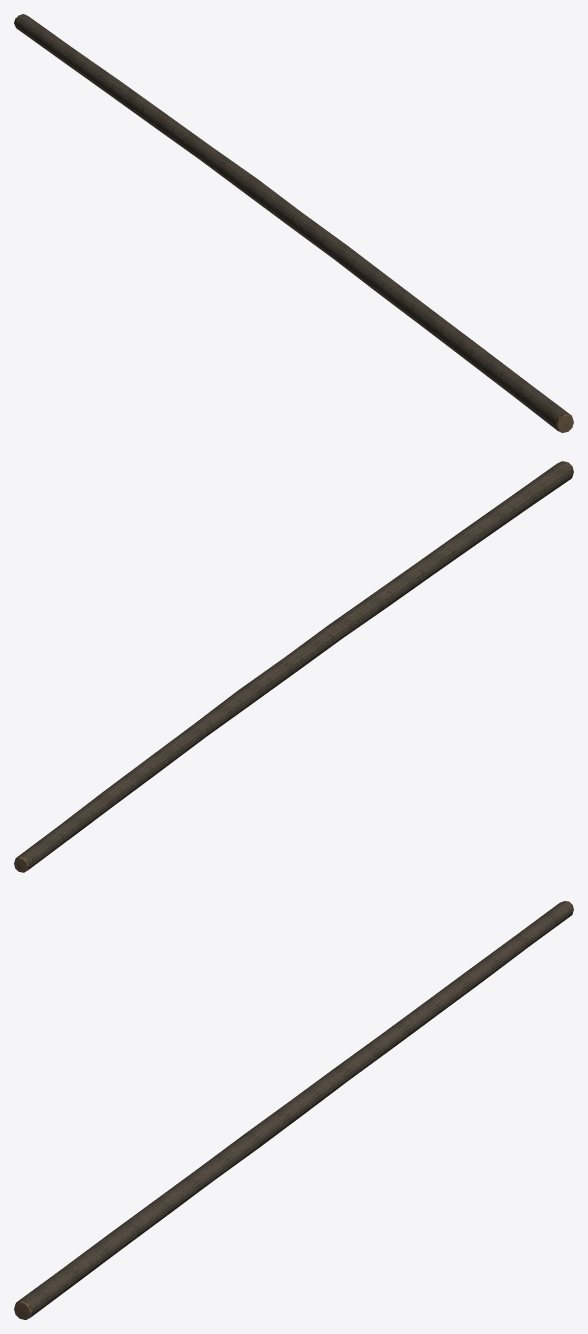
Rendered from S7U_NetPole_Cross.fbx.
3 renders of one model, top to bottom at view 1: azimuth 30°, elevation 25°; view 2: azimuth 150°, elevation 25°; view 3: azimuth 330°, elevation 25°, orthographic.
Visible parts, largest first — view 1: S7U_NetPole_Cross; view 2: S7U_NetPole_Cross; view 3: S7U_NetPole_Cross.
Boxes of the visible parts, x1,y1,x2,y2 form: S7U_NetPole_Cross: (14,14,573,432); S7U_NetPole_Cross: (14,461,573,872); S7U_NetPole_Cross: (14,901,573,1319).
Size of the model in its own units: 0.0998 by 0.1074 by 4.73.
